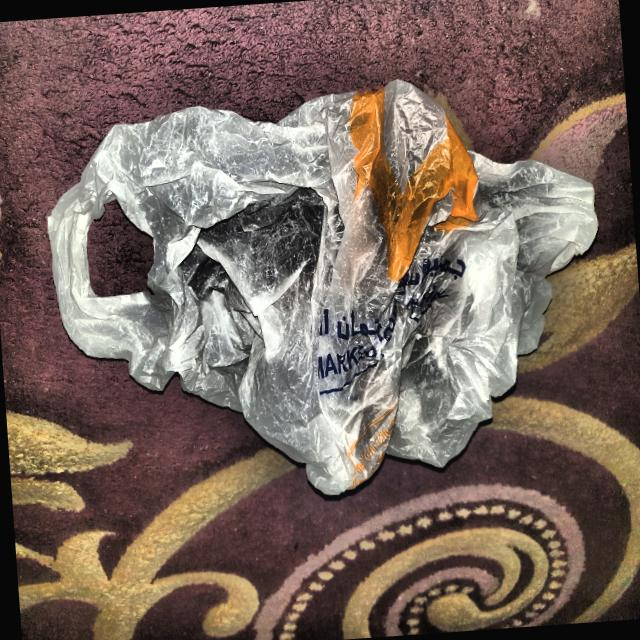plastic bag: (33, 61, 624, 526)
